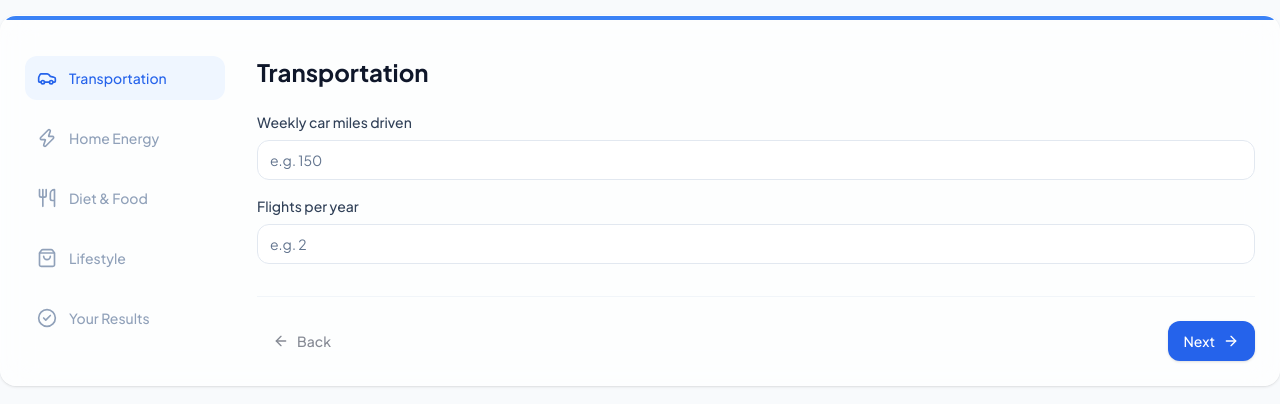
it: Calculator › navigates through all input steps
Expected: the heading "Transportation" is shown, [257,57,428,87]
Click the button "Next": (1211, 341) [1168,321,1255,361]
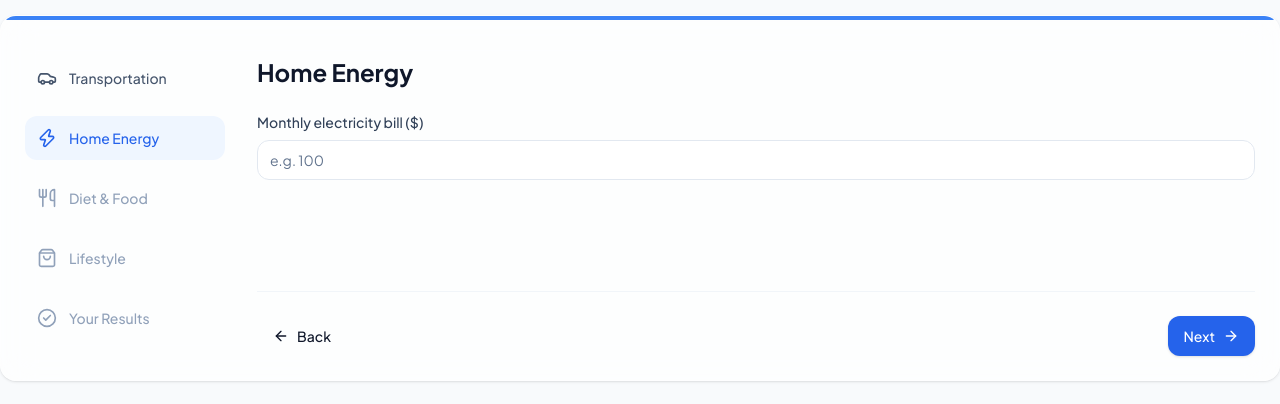
Result: the heading "Home Energy" is shown at [257,57,413,87]
Click the button "Next": (1211, 336) [1168,316,1255,356]
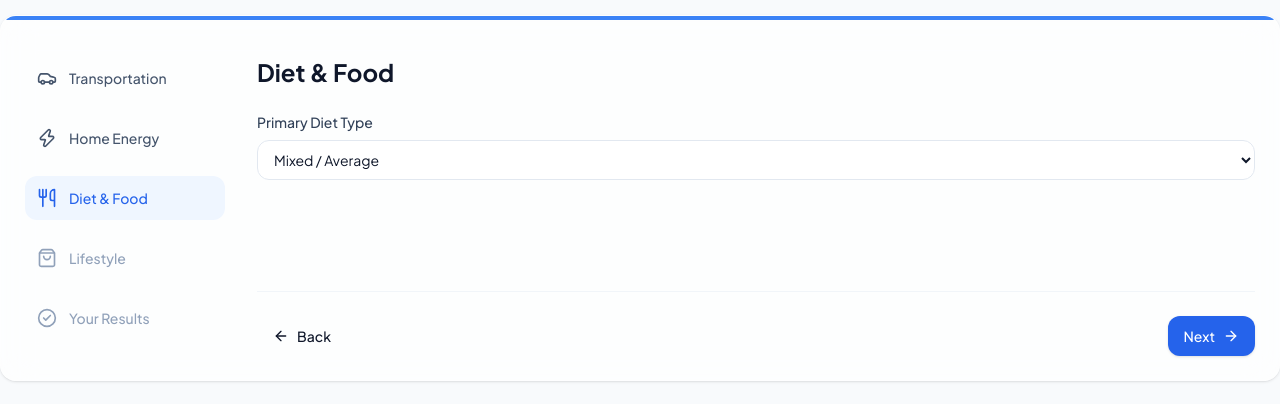
Result: the heading "Diet & Food" is shown at [257,57,394,87]
Click the button "Next": (1211, 336) [1168,316,1255,356]
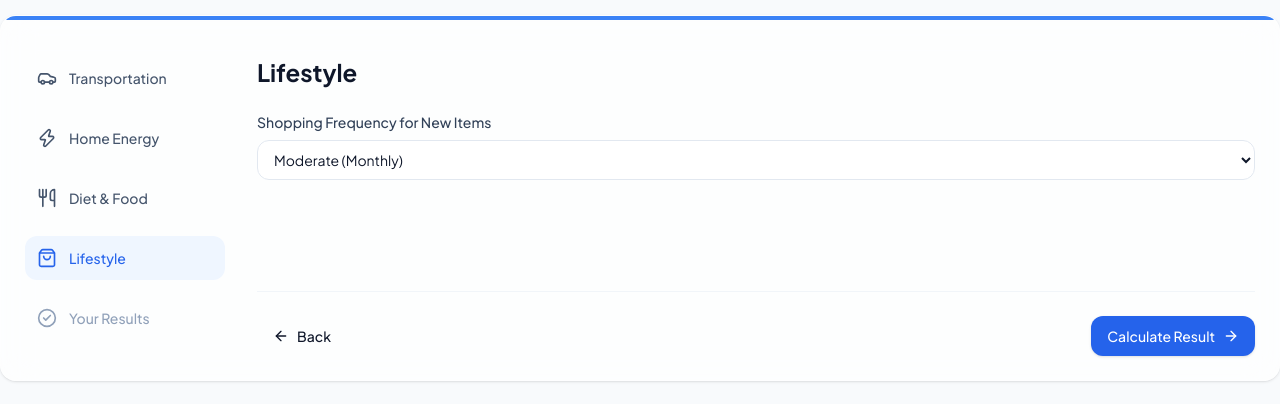
Result: the heading "Lifestyle" is shown at [257,57,357,87]
